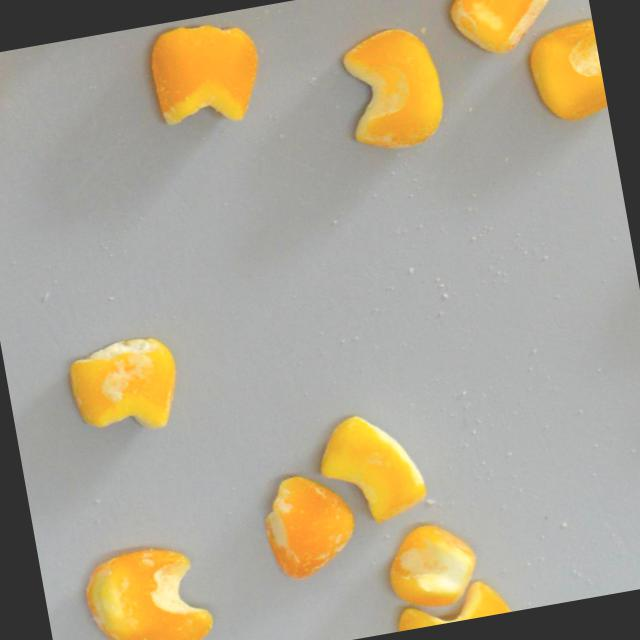dañado: (248, 457, 371, 591), (71, 535, 221, 640)
no_canjicado: (386, 575, 514, 632)
pelicula: (332, 19, 456, 164), (53, 325, 190, 449), (139, 10, 269, 138), (308, 403, 434, 533), (376, 515, 487, 618), (521, 17, 609, 129), (444, 0, 570, 65)
